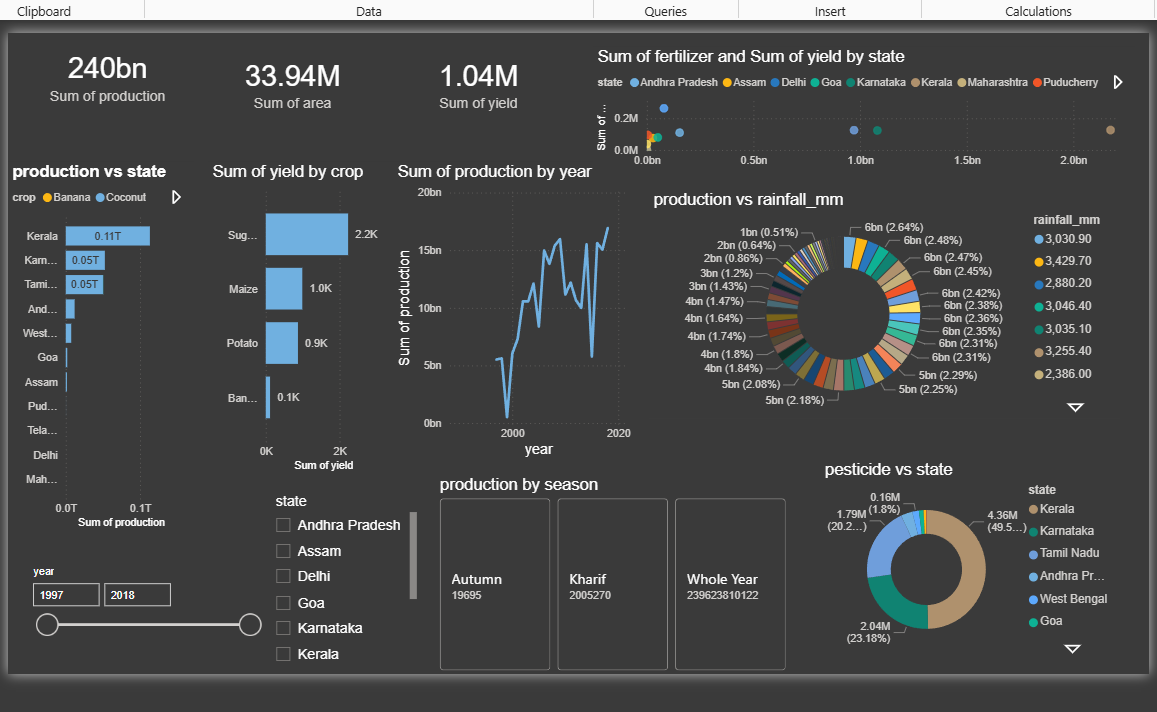

The page's visual inventory and layout, read from the dashboard file:
{"tool":"powerbi","page":{"name":"Page 1","canvas":[1280,720],"ordinal":0},"visuals":[{"type":"actionButton","box":[0,0,100,40],"z":0},{"type":"card","fields":{"Values":["Sum(crop_yield_cleaned.production)"]},"box":[0,16,224,96],"z":1000},{"type":"card","fields":{"Values":["Sum(crop_yield_cleaned.area)"]},"box":[208,0,224,112],"z":2000},{"type":"card","fields":{"Values":["Sum(crop_yield_cleaned.yield)"]},"box":[432,0,192,112],"z":3000},{"type":"barChart","title":" production vs state","fields":{"Category":["crop_yield_cleaned.state"],"Y":["Sum(crop_yield_cleaned.production)"],"Series":["crop_yield_cleaned.crop"]},"box":[0,144,208,416],"z":4000},{"type":"barChart","fields":{"Category":["crop_yield_cleaned.crop"],"Y":["Sum(crop_yield_cleaned.yield)"]},"box":[224,144,208,352],"z":5000},{"type":"lineChart","fields":{"Category":["crop_yield_cleaned.year"],"Y":["Sum(crop_yield_cleaned.production)"]},"box":[432,144,272,336],"z":6000},{"type":"scatterChart","fields":{"X":["Sum(crop_yield_cleaned.fertilizer)"],"Y":["Sum(crop_yield_cleaned.yield)"],"Series":["crop_yield_cleaned.state"]},"box":[656,16,608,144],"z":7000},{"type":"slicer","fields":{"Values":["crop_yield_cleaned.year"]},"box":[16,592,288,96],"z":8000},{"type":"slicer","fields":{"Values":["crop_yield_cleaned.state"]},"box":[288,512,176,208],"z":9000},{"type":"advancedSlicerVisual","title":"production by season","fields":{"Values":["crop_yield_cleaned.season"],"Label":["Sum(crop_yield_cleaned.production)"]},"box":[480,496,400,224],"z":10000},{"type":"donutChart","title":" production vs  rainfall_mm","fields":{"Y":["Sum(crop_yield_cleaned.production)","Sum(crop_yield_cleaned.yield)"],"Category":["crop_yield_cleaned.rainfall_mm"]},"box":[720,176,528,256],"z":11000},{"type":"donutChart","title":"pesticide vs state","fields":{"Category":["crop_yield_cleaned.state"],"Y":["Sum(crop_yield_cleaned.pesticide)"]},"box":[912,480,336,224],"z":12000}]}

Visuals, with their boxes on the page's 1280x720 design canvas (x1, y1, x2, y2). These are canvas units, not pixel positions in the 1157x712 screenshot, which may show the page scaled, cropped or inside an application window:
actionButton: BBox(0, 0, 100, 40)
card - Sum(crop_yield_cleaned.production): BBox(0, 16, 224, 112)
card - Sum(crop_yield_cleaned.area): BBox(208, 0, 432, 112)
card - Sum(crop_yield_cleaned.yield): BBox(432, 0, 624, 112)
" production vs state" barChart: BBox(0, 144, 208, 560)
barChart - crop_yield_cleaned.crop x Sum(crop_yield_cleaned.yield): BBox(224, 144, 432, 496)
lineChart - crop_yield_cleaned.year x Sum(crop_yield_cleaned.production): BBox(432, 144, 704, 480)
scatterChart - Sum(crop_yield_cleaned.fertilizer) x Sum(crop_yield_cleaned.yield): BBox(656, 16, 1264, 160)
slicer - crop_yield_cleaned.year: BBox(16, 592, 304, 688)
slicer - crop_yield_cleaned.state: BBox(288, 512, 464, 720)
"production by season" advancedSlicerVisual: BBox(480, 496, 880, 720)
" production vs  rainfall_mm" donutChart: BBox(720, 176, 1248, 432)
"pesticide vs state" donutChart: BBox(912, 480, 1248, 704)
